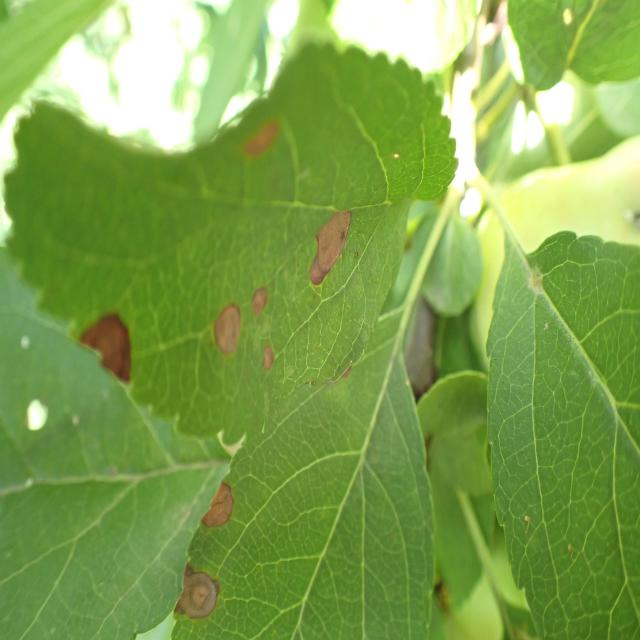Black Rot: (66, 309, 147, 405), (306, 193, 358, 301), (162, 558, 235, 630), (191, 467, 244, 539), (228, 114, 300, 163), (213, 270, 243, 384), (245, 336, 286, 386), (240, 275, 276, 319)
